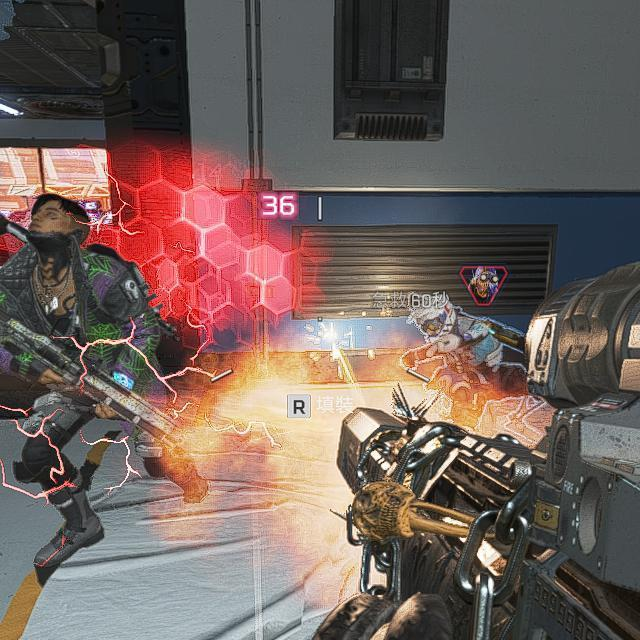avatar: (0, 192, 167, 573), (404, 289, 531, 432)
